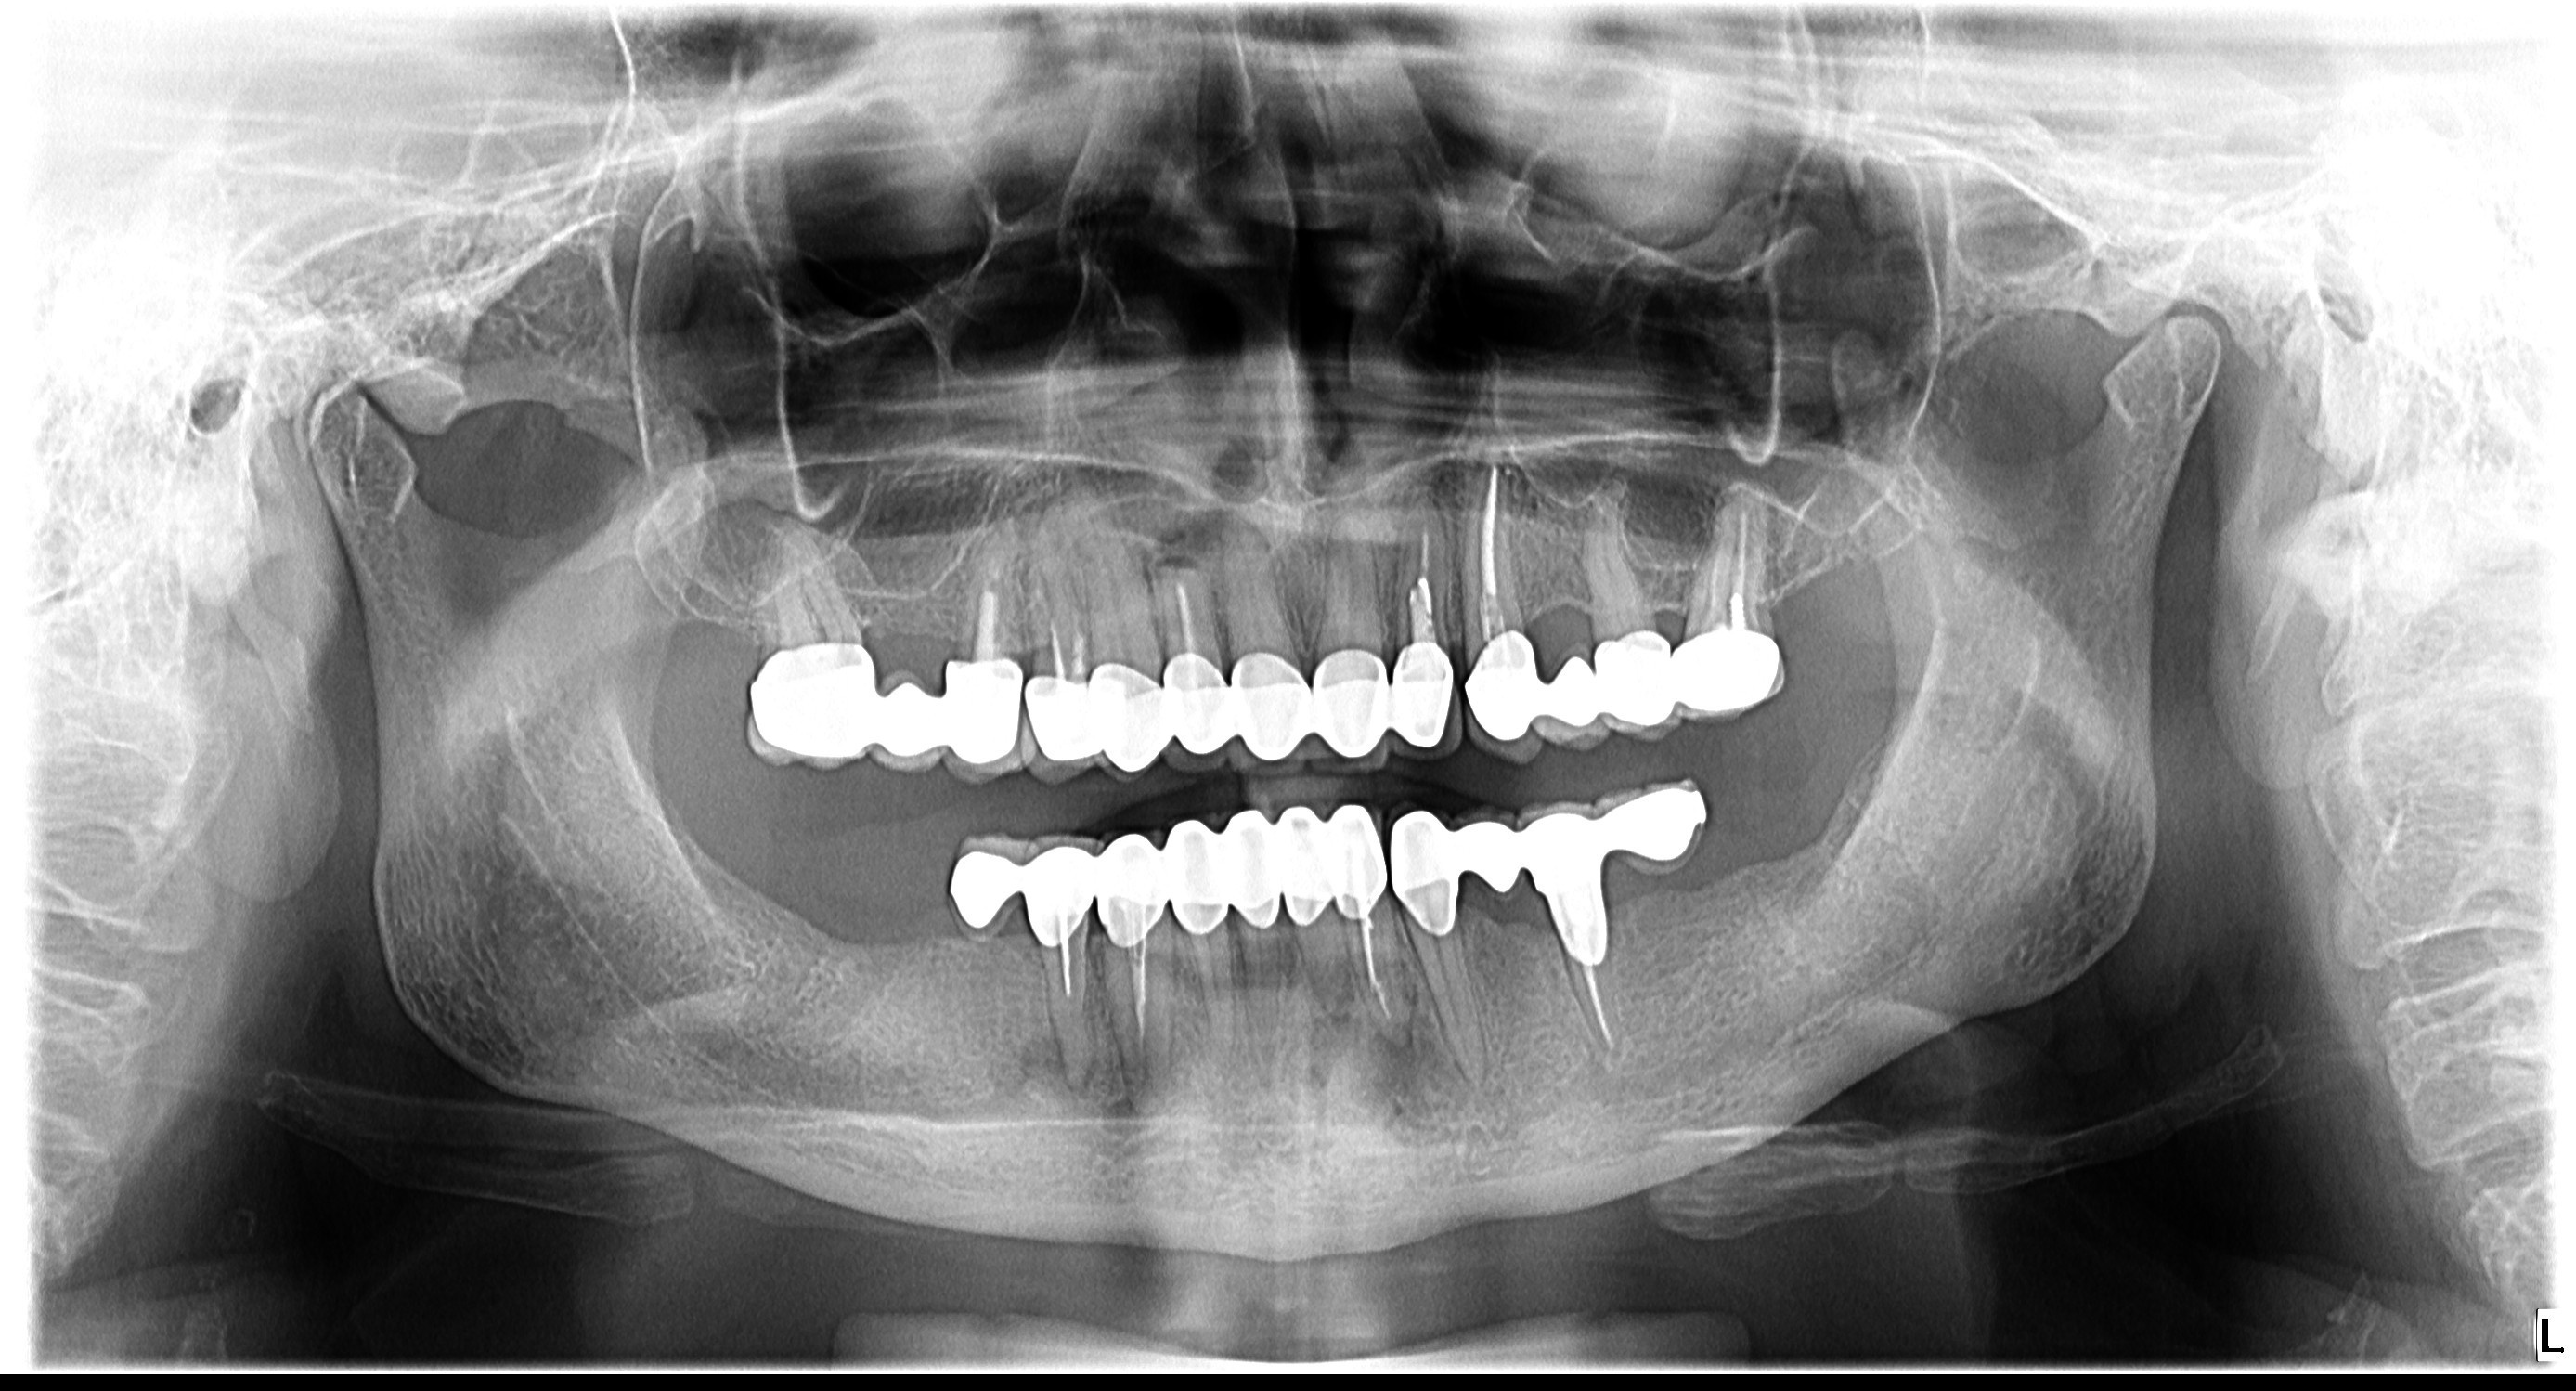API: (1368, 1028, 1429, 1079)
CAR: (748, 654, 1773, 766), (921, 800, 1724, 934)
END: (1549, 939, 1635, 1054), (1338, 893, 1402, 1019), (1712, 485, 1765, 634), (1467, 457, 1510, 634), (1029, 572, 1097, 675), (1392, 521, 1441, 646), (1113, 918, 1160, 1045), (1159, 574, 1214, 665), (1041, 932, 1087, 1016)
FUR: (1150, 546, 1212, 574)
